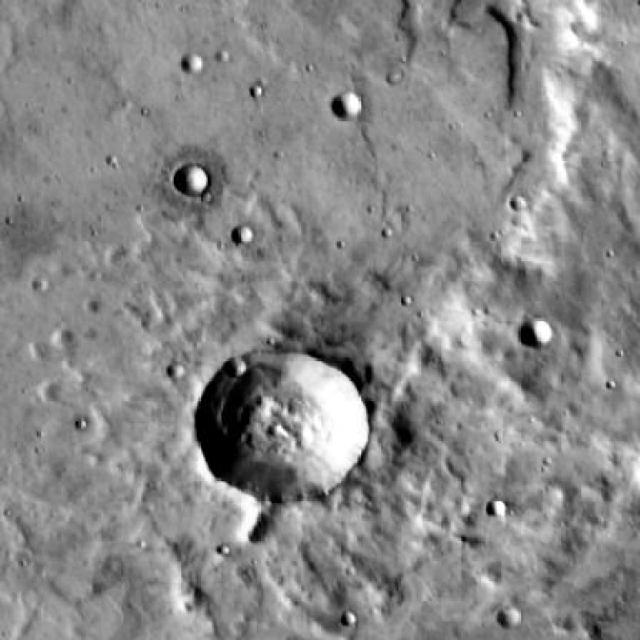crater: (0, 0, 640, 605), (198, 351, 364, 500), (172, 163, 206, 194), (518, 319, 548, 346), (332, 93, 358, 116), (181, 52, 204, 72), (226, 359, 248, 379), (235, 226, 256, 246), (495, 608, 516, 627), (488, 497, 506, 514)
